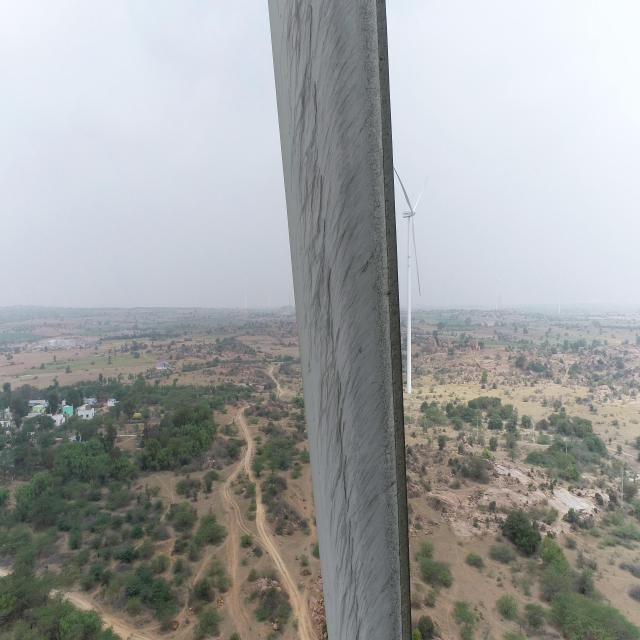Dirt: (270, 0, 411, 640)
